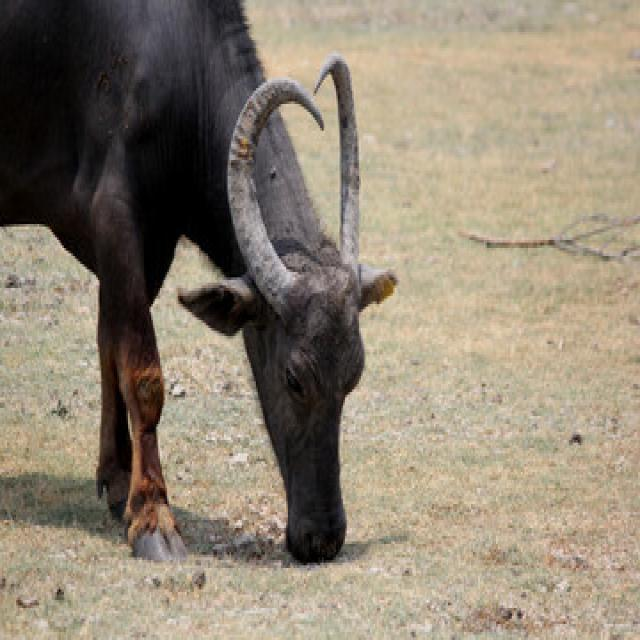Buffalo: (0, 0, 398, 565)
